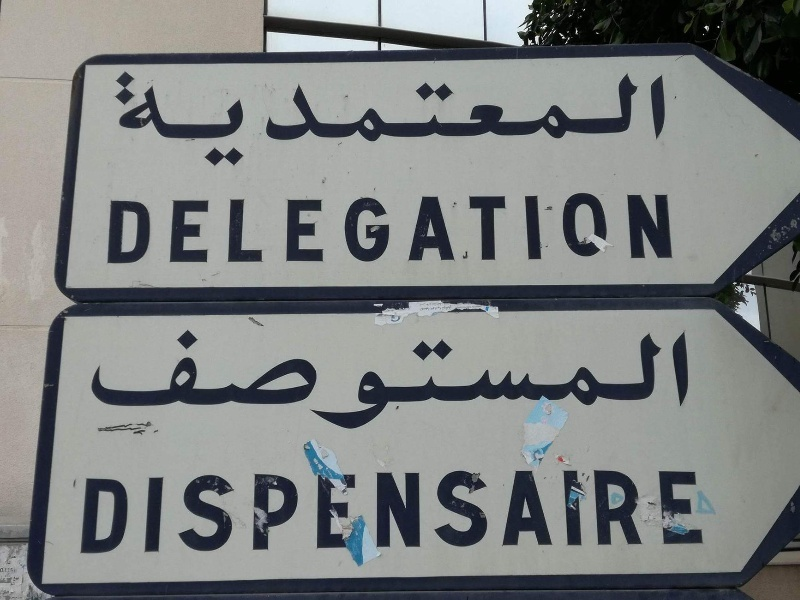text: (97, 329, 112, 431), (113, 329, 128, 431), (129, 329, 144, 431), (145, 329, 160, 431), (161, 329, 176, 431), (177, 329, 192, 431), (193, 329, 208, 431), (209, 329, 224, 431), (225, 329, 240, 431), (241, 329, 256, 431), (257, 329, 272, 431), (273, 329, 288, 431), (289, 329, 304, 431), (305, 329, 320, 431), (321, 329, 336, 431), (337, 329, 352, 431), (353, 329, 368, 431), (369, 329, 384, 431), (385, 329, 400, 431), (401, 329, 416, 431), (417, 329, 432, 431), (433, 329, 448, 431), (449, 329, 464, 431), (465, 329, 480, 431), (481, 329, 496, 431), (497, 329, 512, 431), (513, 329, 528, 431), (529, 329, 544, 431), (545, 329, 560, 431), (561, 329, 576, 431), (577, 329, 592, 431), (593, 329, 608, 431), (609, 329, 624, 431), (625, 329, 640, 431), (641, 329, 656, 431), (657, 329, 672, 431), (673, 329, 688, 431), (129, 70, 144, 167), (145, 70, 160, 167), (161, 70, 176, 167), (177, 70, 192, 167), (193, 70, 208, 167), (209, 70, 224, 167), (225, 70, 240, 167), (241, 70, 256, 167), (257, 70, 272, 167), (273, 70, 288, 167), (289, 70, 304, 167), (305, 70, 320, 167), (321, 70, 336, 167), (337, 70, 352, 167), (353, 70, 368, 167), (369, 70, 384, 167), (385, 70, 400, 167), (401, 70, 416, 167), (417, 70, 432, 167), (433, 70, 448, 167), (449, 70, 464, 167), (465, 70, 480, 167), (481, 70, 496, 167), (497, 70, 512, 167), (513, 70, 528, 167), (529, 70, 544, 167), (545, 70, 560, 167), (561, 70, 576, 167), (577, 70, 592, 167), (593, 70, 608, 167), (609, 70, 624, 167), (625, 70, 640, 167), (641, 70, 656, 167), (97, 469, 112, 560), (113, 469, 128, 560), (129, 469, 144, 560), (145, 469, 160, 560), (161, 469, 176, 560), (177, 469, 192, 560), (193, 469, 208, 560), (209, 469, 224, 560), (225, 469, 240, 560), (241, 469, 256, 560), (257, 469, 272, 560), (273, 469, 288, 560), (289, 469, 304, 560), (305, 469, 320, 560), (321, 469, 336, 560), (337, 469, 352, 560), (353, 469, 368, 560), (369, 469, 384, 560), (385, 469, 400, 560), (401, 469, 416, 560), (417, 469, 432, 560), (433, 469, 448, 560), (449, 469, 464, 560), (465, 469, 480, 560), (481, 469, 496, 560), (497, 469, 512, 560), (513, 469, 528, 560), (529, 469, 544, 560), (545, 469, 560, 560), (561, 469, 576, 560), (577, 469, 592, 560), (593, 469, 608, 560), (609, 469, 624, 560), (625, 469, 640, 560), (641, 469, 656, 560), (657, 469, 672, 560), (673, 469, 688, 560), (689, 469, 704, 560), (114, 70, 128, 167), (657, 192, 673, 265), (113, 192, 128, 265), (129, 192, 144, 265), (145, 192, 160, 265), (161, 192, 176, 265), (177, 192, 192, 265), (193, 192, 208, 265), (209, 192, 224, 265), (225, 192, 240, 265), (241, 192, 256, 265), (257, 192, 272, 265), (273, 192, 288, 265), (289, 192, 304, 265), (305, 192, 320, 265), (321, 192, 336, 265), (337, 192, 352, 265), (353, 192, 368, 265), (369, 192, 384, 265), (385, 192, 400, 265), (401, 192, 416, 265), (417, 192, 432, 265), (433, 192, 448, 265), (449, 192, 464, 265), (465, 192, 480, 265), (481, 192, 496, 265), (497, 192, 512, 265), (513, 192, 528, 265), (529, 192, 544, 265), (545, 192, 560, 265), (561, 192, 576, 265), (577, 192, 592, 265), (593, 192, 608, 265), (609, 192, 624, 265), (625, 192, 640, 265), (641, 192, 656, 265), (85, 469, 96, 560), (657, 70, 666, 167), (90, 329, 96, 431), (705, 469, 707, 560), (110, 192, 112, 265), (1, 567, 16, 575), (689, 329, 690, 431), (17, 567, 19, 575), (13, 577, 16, 582), (17, 577, 19, 582)
